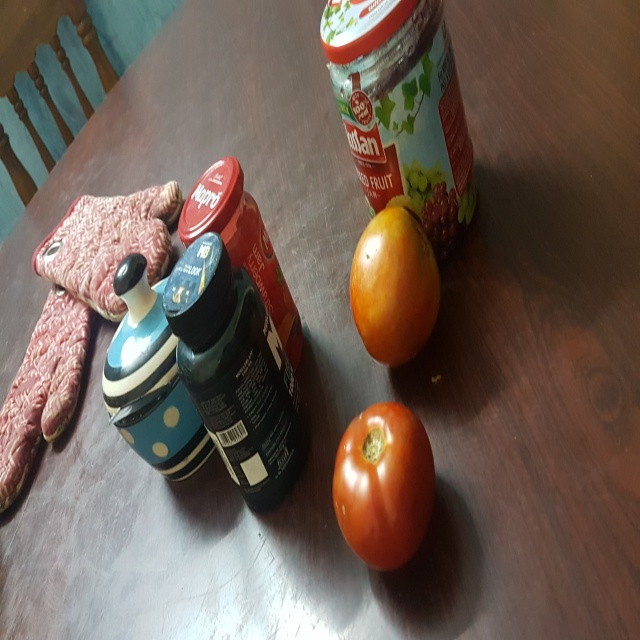tomato: (330, 392, 442, 571), (342, 204, 456, 371)
